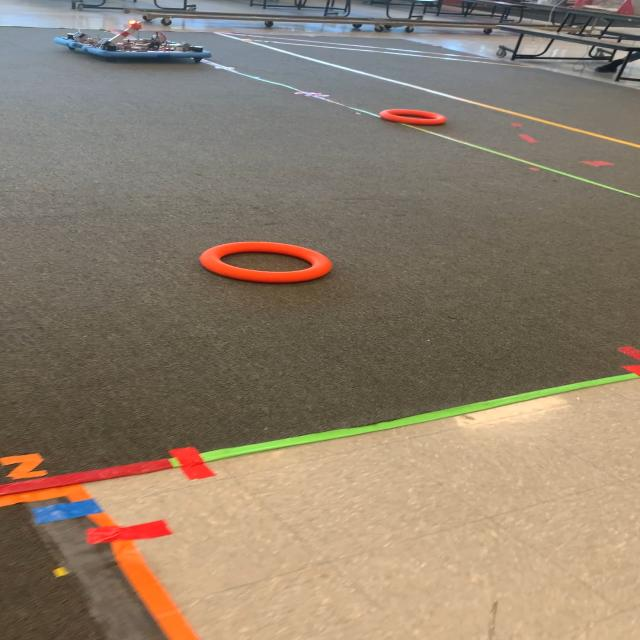notes: (199, 240, 334, 282), (381, 108, 446, 126)
